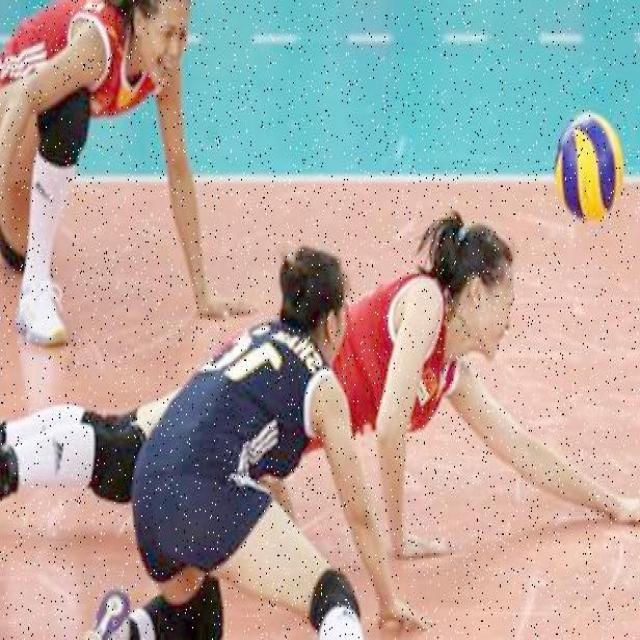fall: (16, 227, 516, 484)
